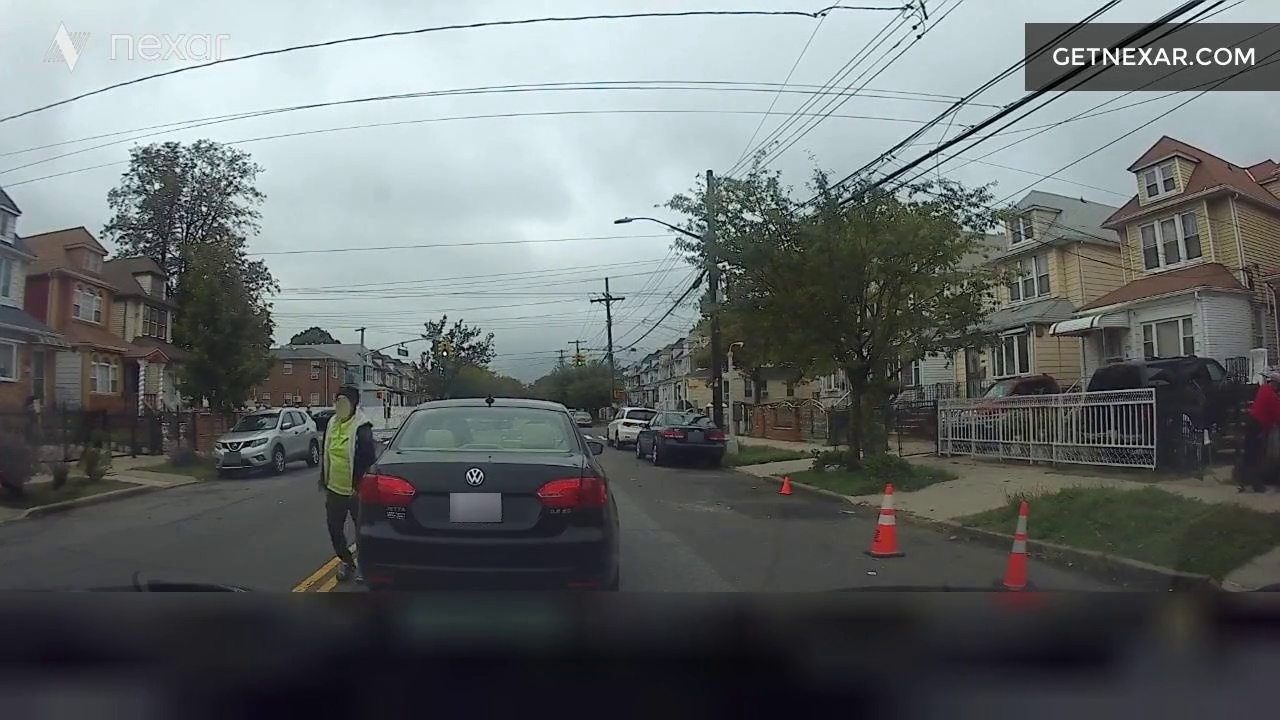car: (374, 350, 614, 614), (1096, 345, 1213, 470), (618, 389, 719, 475), (223, 403, 313, 491), (972, 361, 1055, 454)
person: (301, 384, 371, 576), (1242, 355, 1280, 488)
